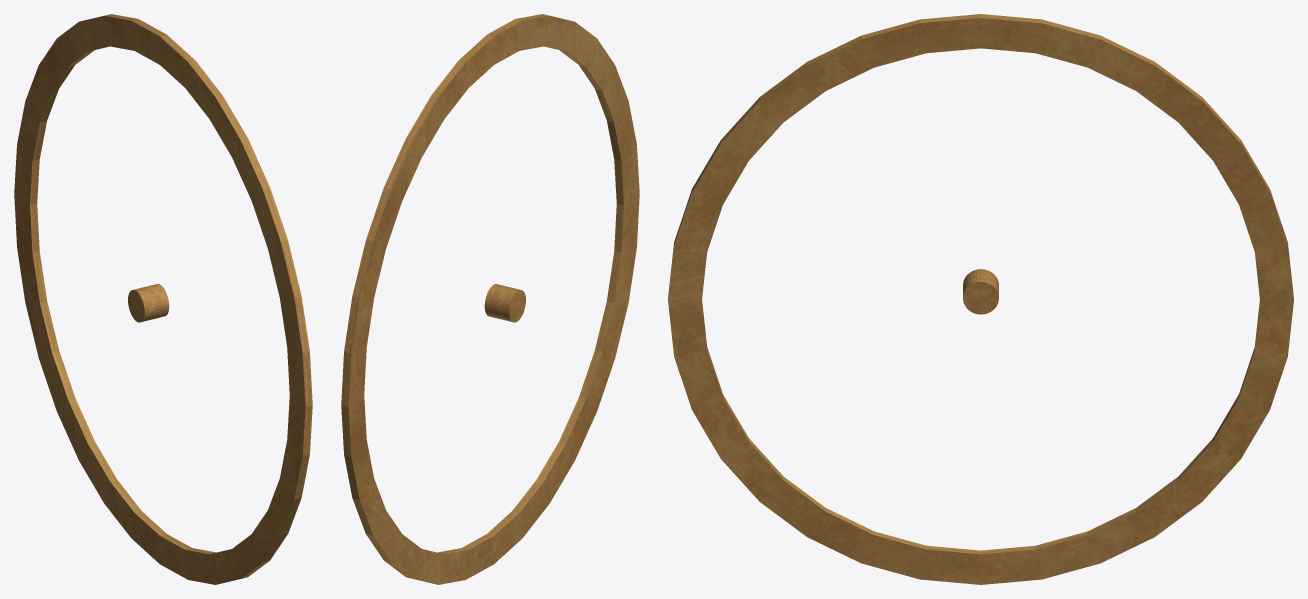
The model's file is SoleilStructure.fbx.
3 renders of one model, left to right at view 1: azimuth 30°, elevation 25°; view 2: azimuth 150°, elevation 25°; view 3: azimuth 270°, elevation 25°, orthographic. The views are drawn at different scales.
Parts seen in each view (by area): view 1: SoleilContour, SoleilCentre; view 2: SoleilContour, SoleilCentre; view 3: SoleilContour, SoleilCentre.
Boxes of the visible parts, x1,y1,x2,y2 form: SoleilContour: [14, 14, 312, 584]; SoleilCentre: [128, 284, 169, 322]; SoleilContour: [341, 14, 639, 584]; SoleilCentre: [484, 284, 525, 322]; SoleilContour: [668, 14, 1293, 584]; SoleilCentre: [963, 269, 998, 314].
Bounding box in the file's own units: 33.75 × 553 × 553.
2 materials, 2 textured.
